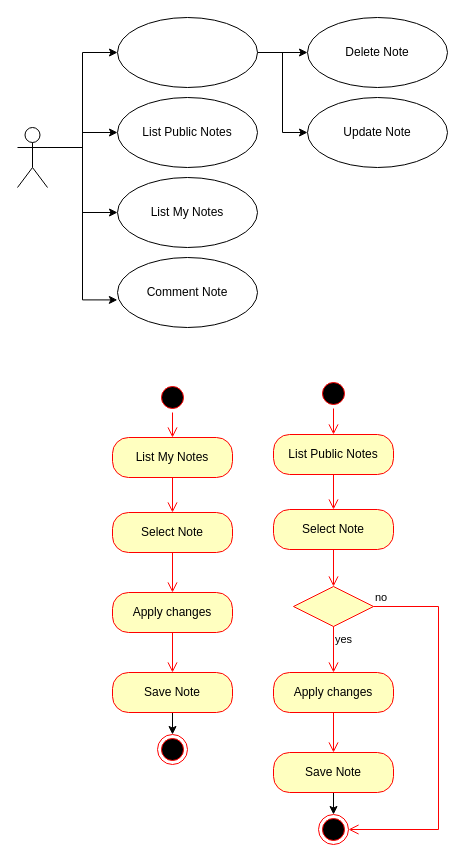
Some shapes in this 466 by 862 pixel diagram are drawn without their labels. Here are the shapes that lost their labels. From the top down, the box of each, then its label:
(116, 16, 258, 88): Create Note
(16, 126, 48, 188): User
(292, 586, 374, 626): My Note
